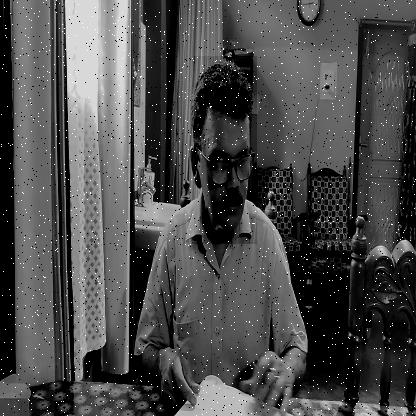Normal: (194, 56, 257, 244)
